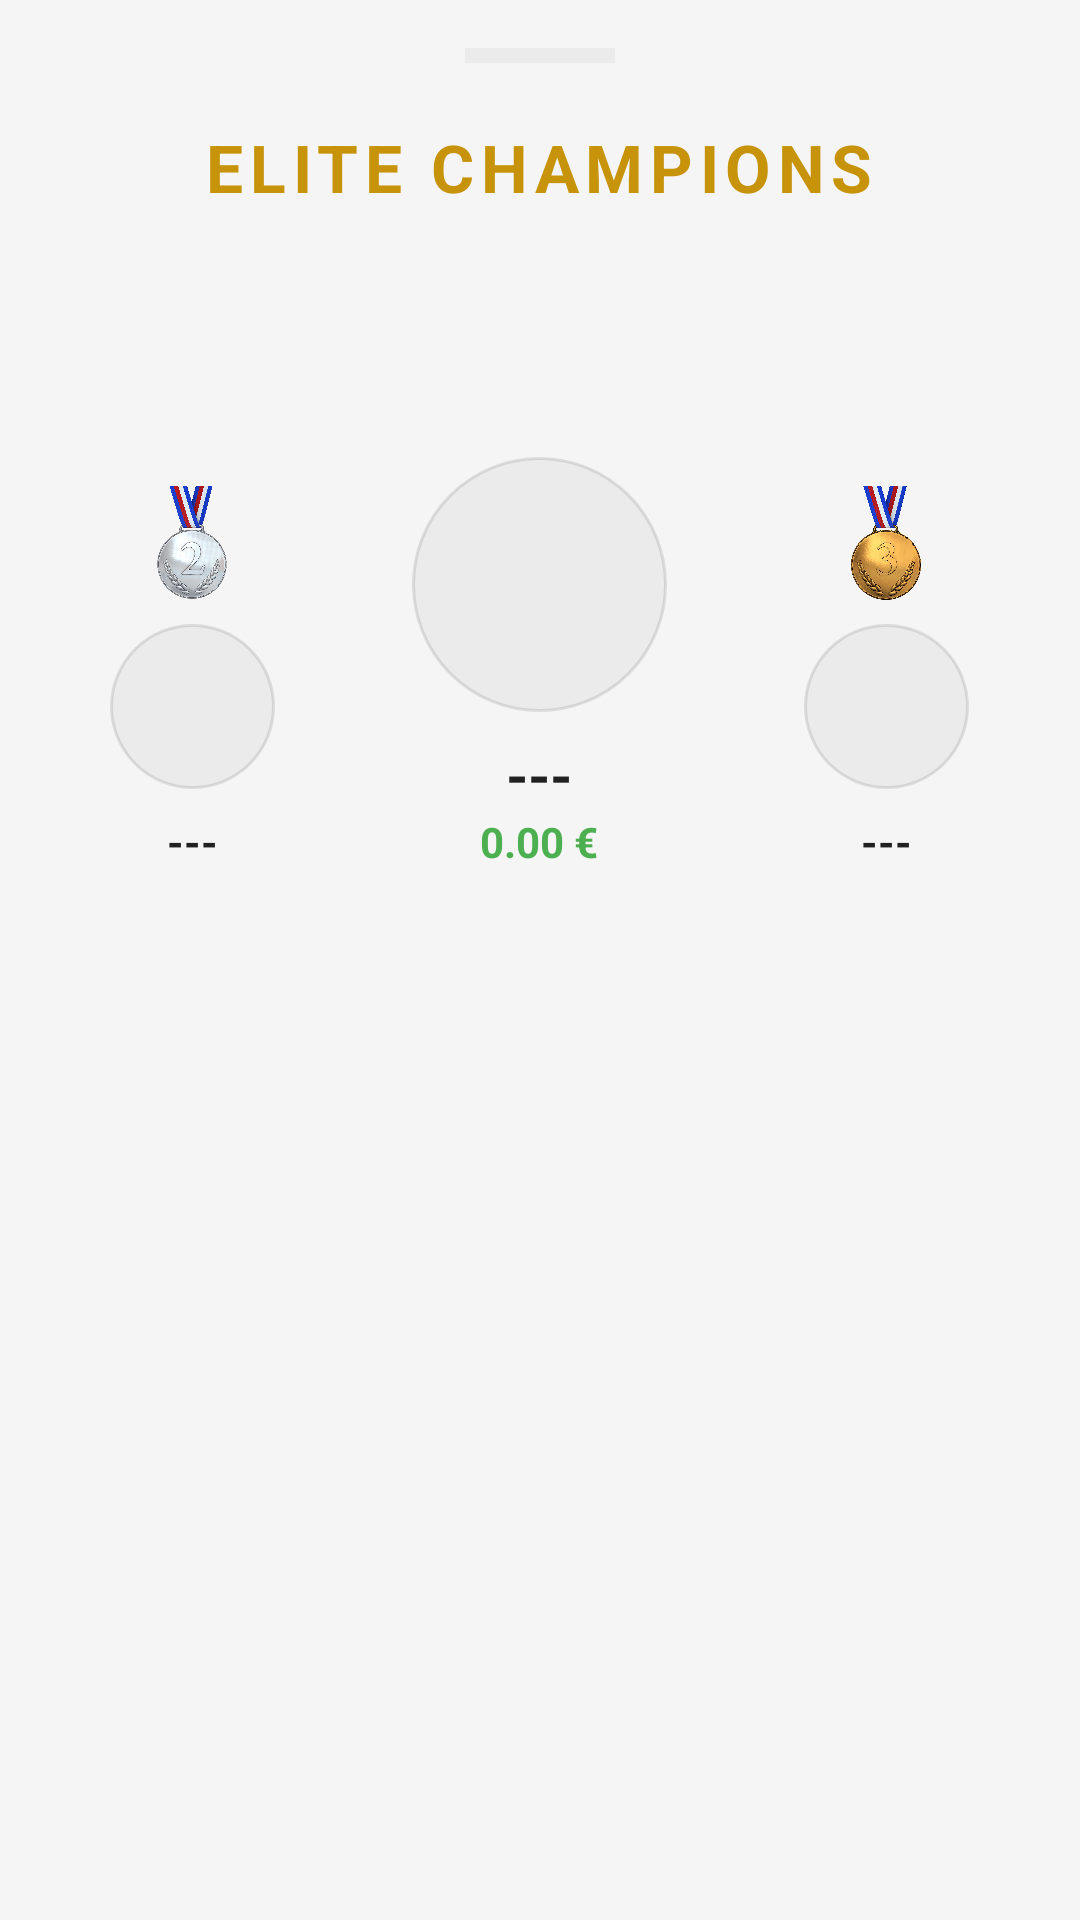

Icon bounding boxes for this 1080×1920 phone screenshot, format [x1,y1,x2,y2]:
bronze medal: [851,486,921,600]
silver medal: [157,486,227,599]
